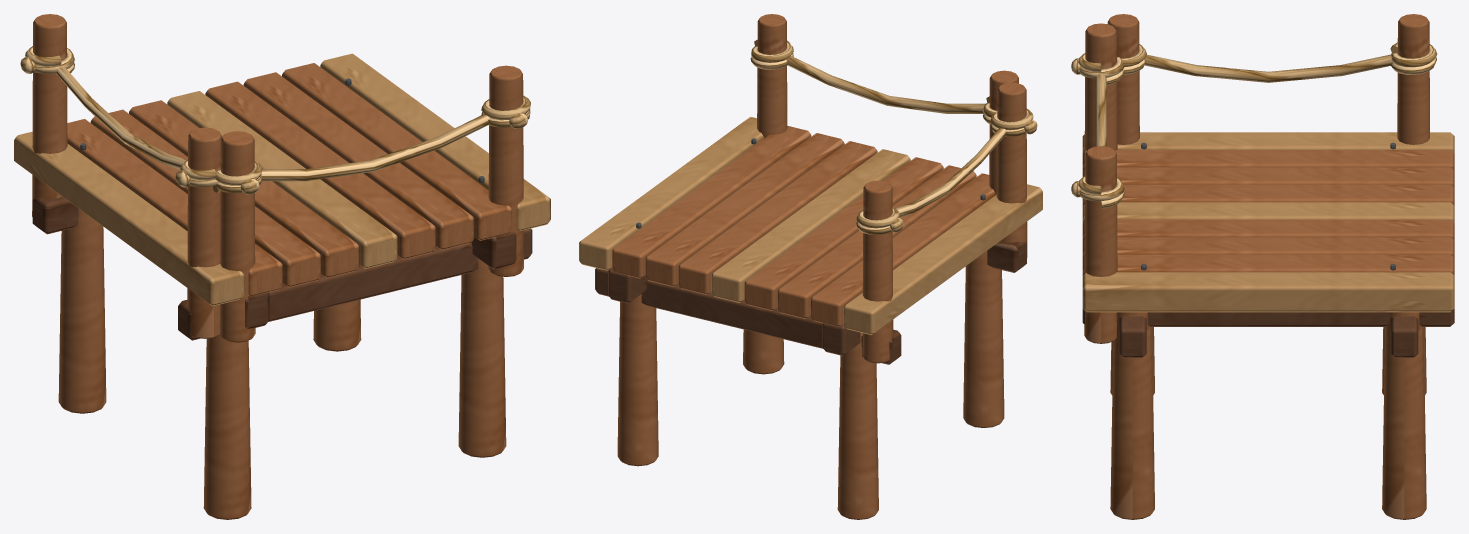
Rendered from SM_Dock_Corner.glb.
3 views of the same model, side by side, from view 1: azimuth 30°, elevation 25°; view 2: azimuth 150°, elevation 25°; view 3: azimuth 270°, elevation 25° (orthographic). The views are drawn at different scales.
Visible parts, largest first — view 1: SM_Dock_Corner; view 2: SM_Dock_Corner; view 3: SM_Dock_Corner.
Boxes of the visible parts, box(x1,y1,x2,y2) form: SM_Dock_Corner: box(14, 14, 550, 519); SM_Dock_Corner: box(579, 14, 1042, 519); SM_Dock_Corner: box(1071, 14, 1454, 519).
Bounding box in the file's own units: 2.06 × 2.15 × 2.06.
1 material, 1 textured.
